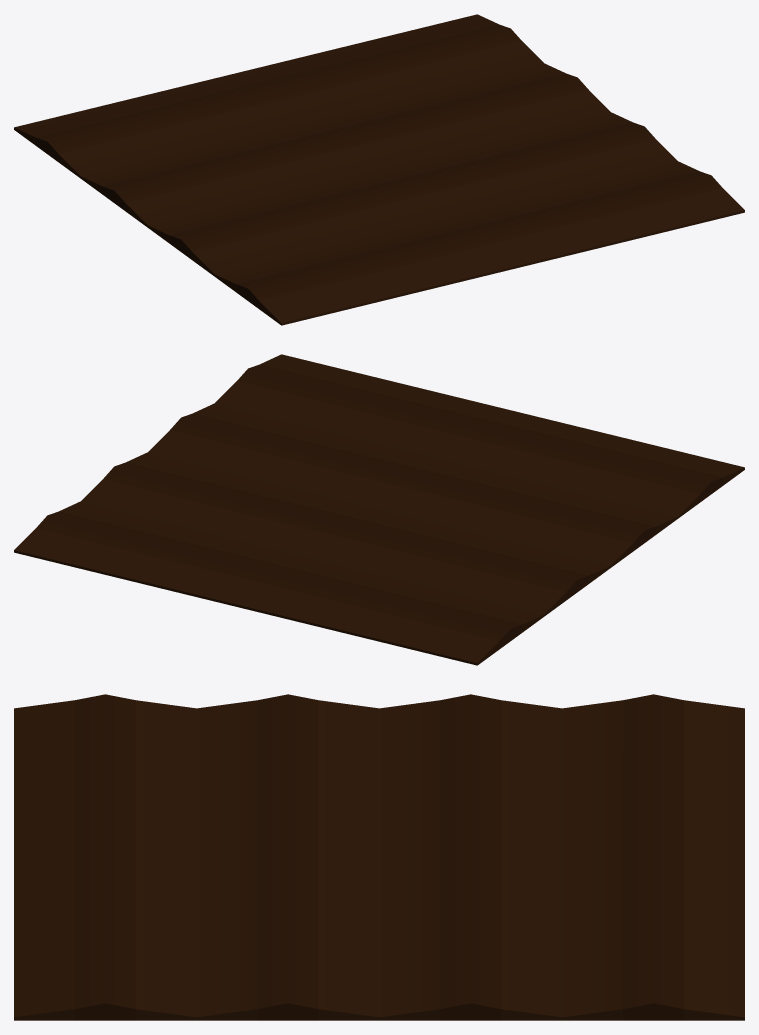
Rendered from terraintest.fbx.
The picture shows the model from 3 angles, top to bottom: view 1: azimuth 30°, elevation 25°; view 2: azimuth 150°, elevation 25°; view 3: azimuth 270°, elevation 25°; orthographic projection. The views are drawn at different scales.
Parts seen in each view (by area): view 1: Box002; view 2: Box002; view 3: Box002.
Part boxes in pixels (x1=…): Box002: x1=14, y1=14, x2=744, y2=325; Box002: x1=14, y1=354, x2=744, y2=665; Box002: x1=14, y1=694, x2=744, y2=1020.
Size of the model in its own units: 10 by 0.2623 by 10.
